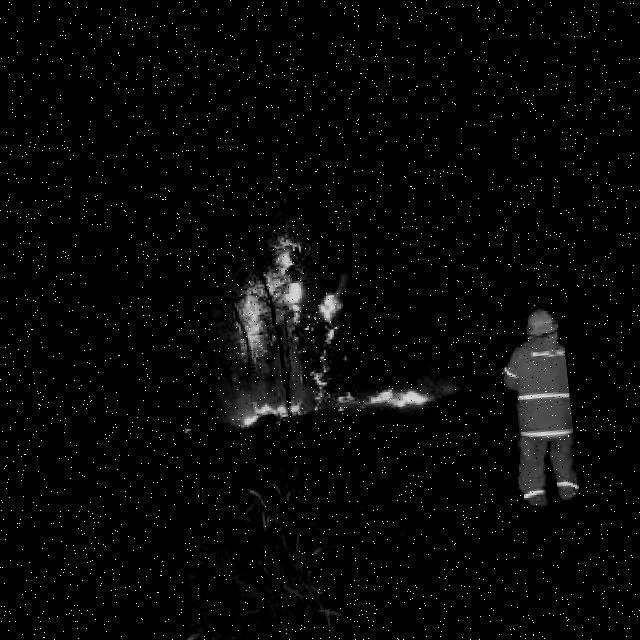Fire: (208, 210, 430, 432)
